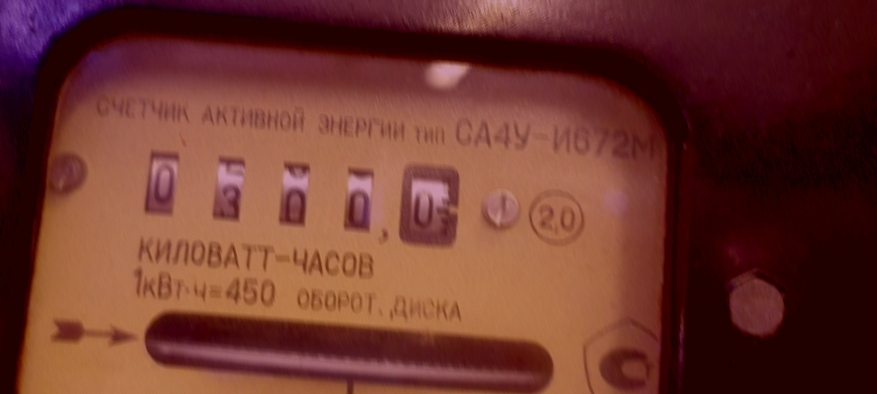0: (344, 186, 372, 231), (150, 159, 176, 207), (408, 187, 436, 231), (280, 184, 307, 227)
3: (216, 181, 242, 221)
screen: (121, 127, 481, 265)
